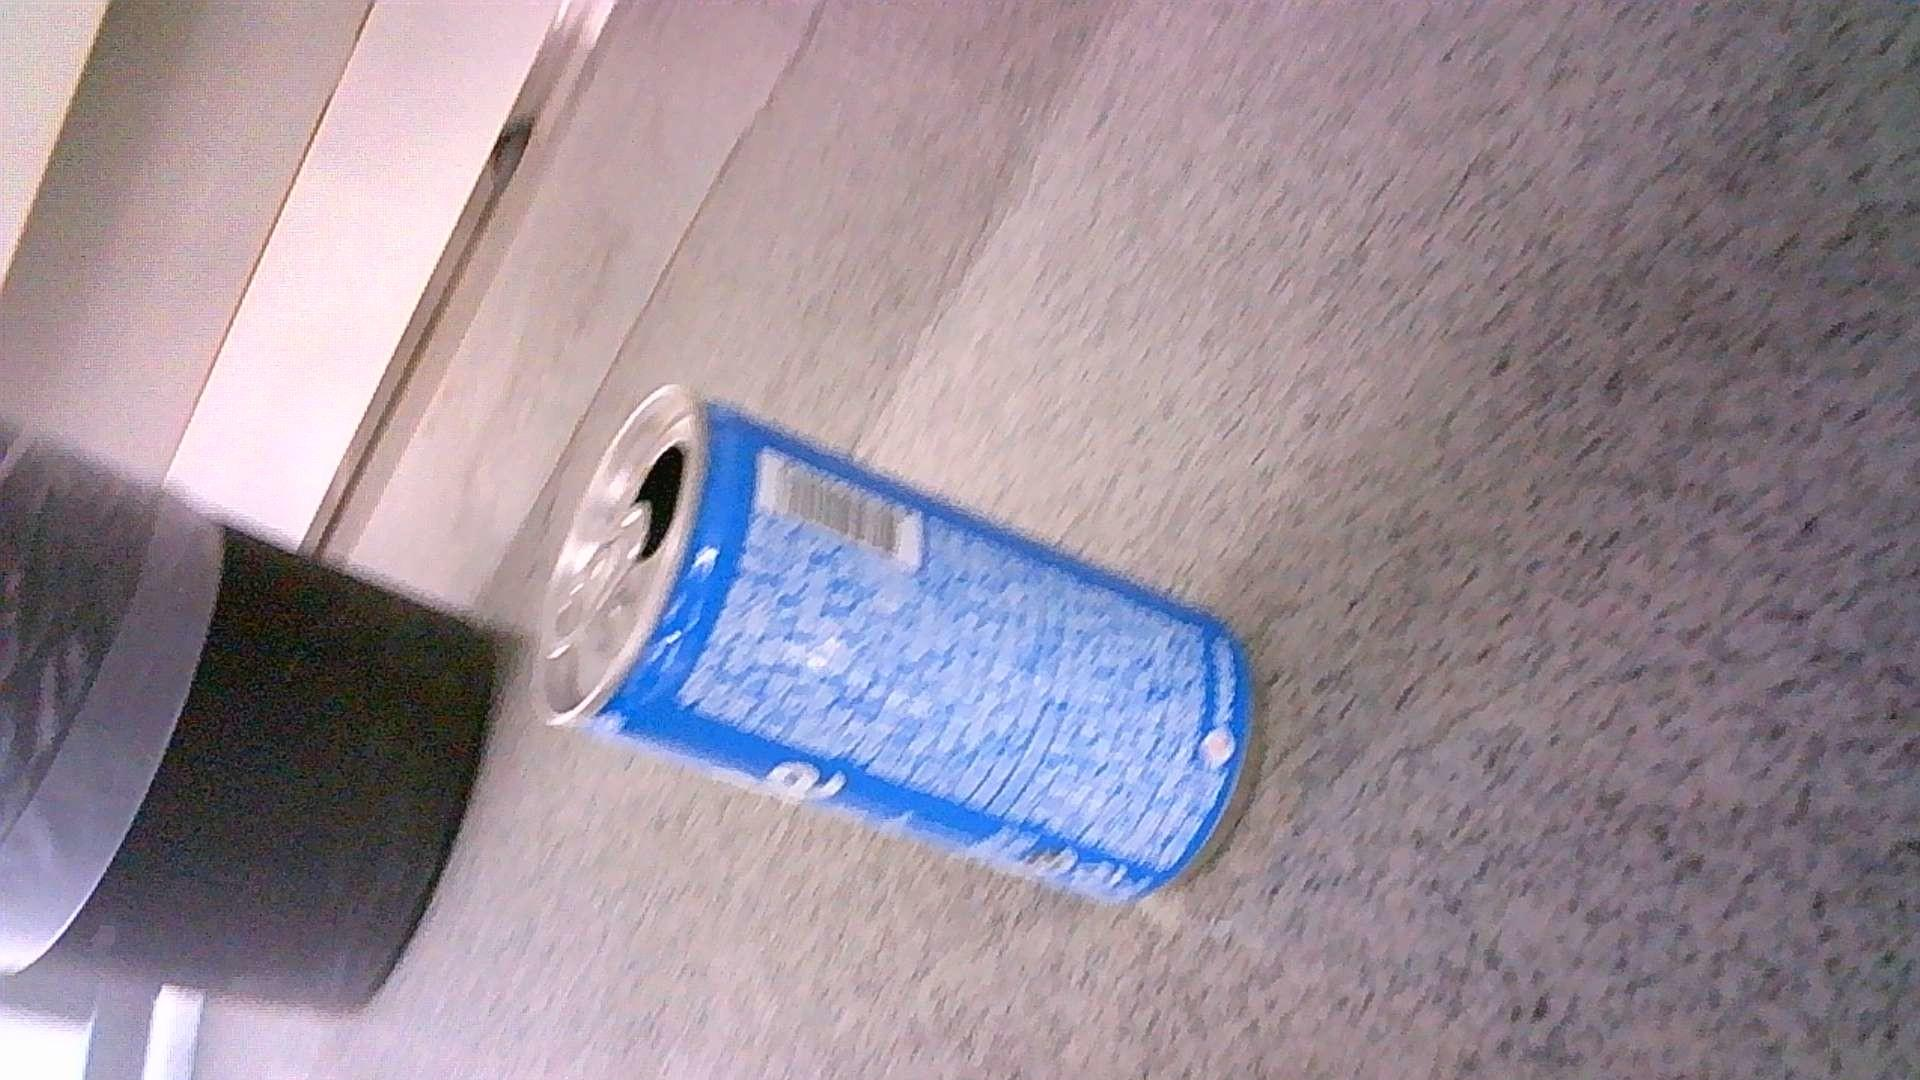letsbe: (539, 382, 1263, 913)
